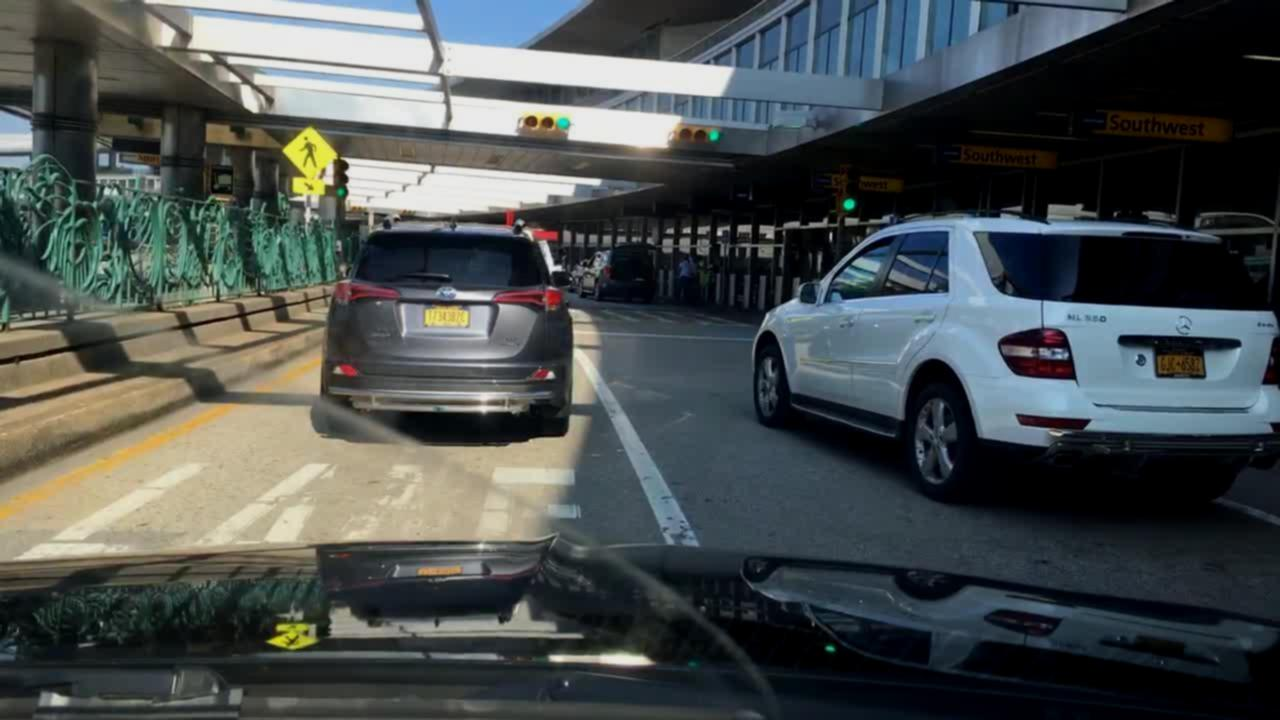Mercedes: (1169, 305, 1198, 342)
Toyota: (434, 283, 457, 305)
